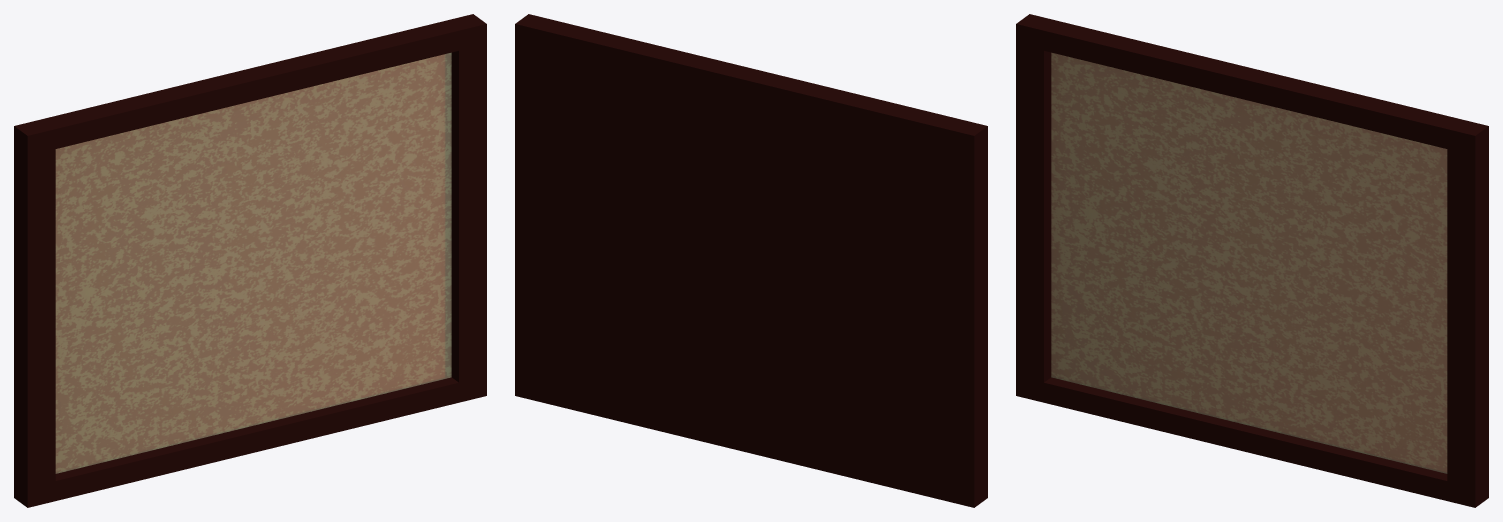
File: pin board.fbx
3 views of the same model, side by side, from view 1: azimuth 30°, elevation 25°; view 2: azimuth 150°, elevation 25°; view 3: azimuth 330°, elevation 25° (orthographic).
Visible parts, largest first — view 1: Plane.001; view 2: Plane.001; view 3: Plane.001.
Part boxes in pixels (x1,y1,x2,y2): Plane.001: (14,14,486,507); Plane.001: (515,14,987,507); Plane.001: (1016,14,1488,507).
Size of the model in its own units: 568 by 440 by 29.12.
Materials: 2 (1 with a texture image).
